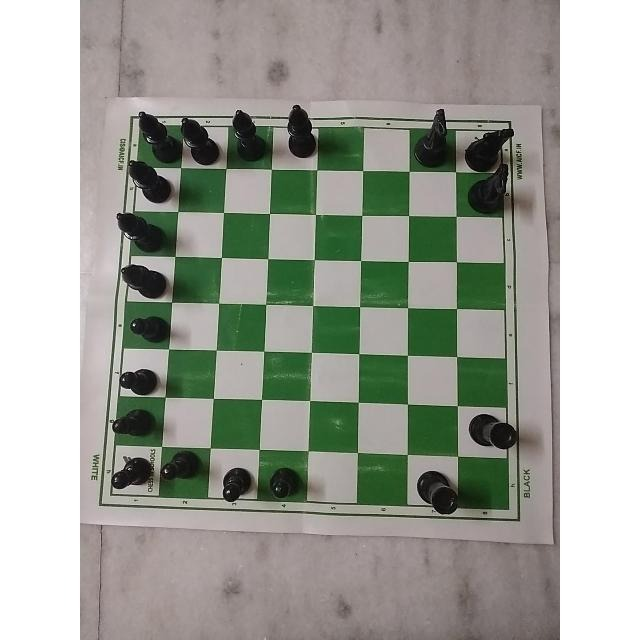black-bishop: (129, 105, 178, 169), (112, 202, 170, 250), (175, 111, 223, 168), (281, 101, 321, 169), (124, 157, 176, 207), (111, 259, 172, 301), (227, 102, 267, 166)
black-knight: (468, 156, 518, 217), (460, 116, 516, 170), (411, 104, 456, 170)
black-pawn: (111, 358, 161, 405), (106, 455, 156, 501), (151, 455, 210, 487), (111, 405, 159, 444), (118, 311, 170, 346), (218, 463, 254, 513), (268, 461, 304, 505)
black-rook: (466, 413, 526, 460), (420, 473, 466, 525)
